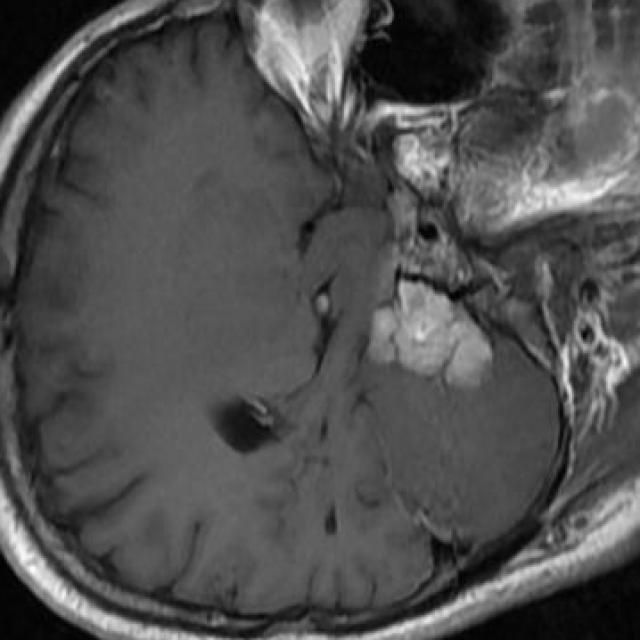meningioma: (369, 282, 494, 385)
